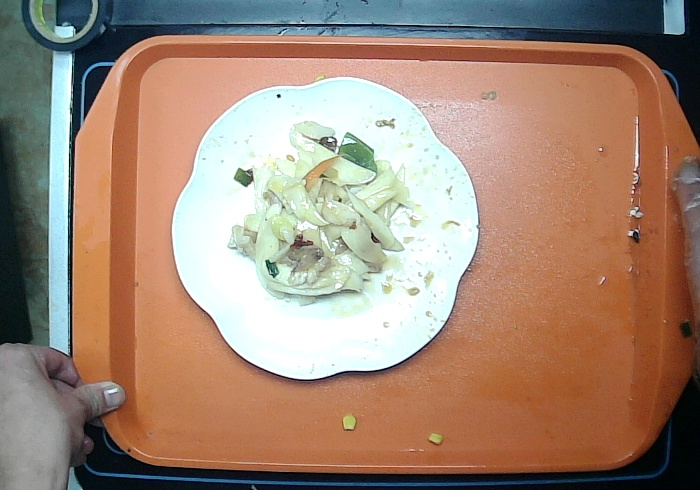HZYJPL-Bai_Se_Hua_Duo_Wan: (169, 74, 480, 383)
